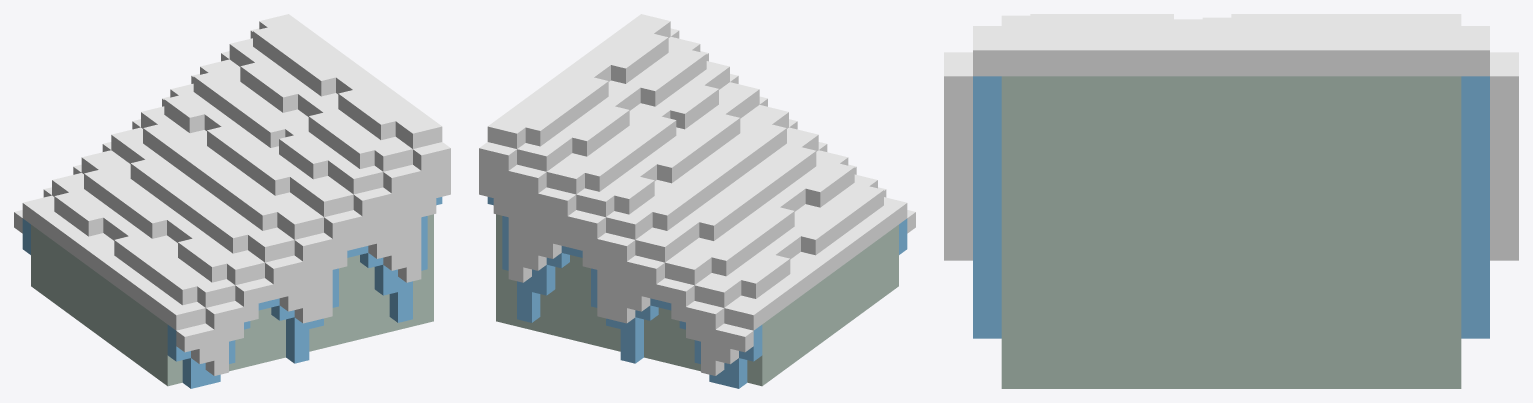
Rendered from Floors-21.obj.
The picture shows the model from 3 angles, left to right: view 1: azimuth 30°, elevation 25°; view 2: azimuth 150°, elevation 25°; view 3: azimuth 270°, elevation 25°; orthographic projection. The views are drawn at different scales.
Size of the model in its own units: 1.8 by 1.3 by 2.
